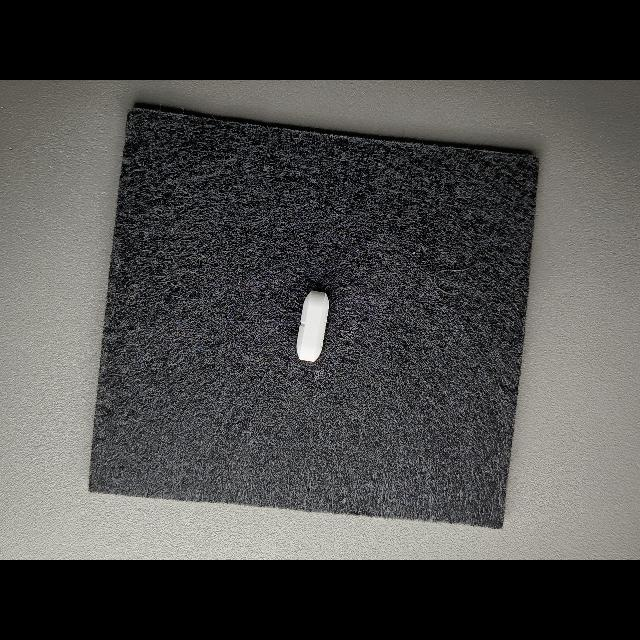Intact Pill: (296, 290, 329, 362)
